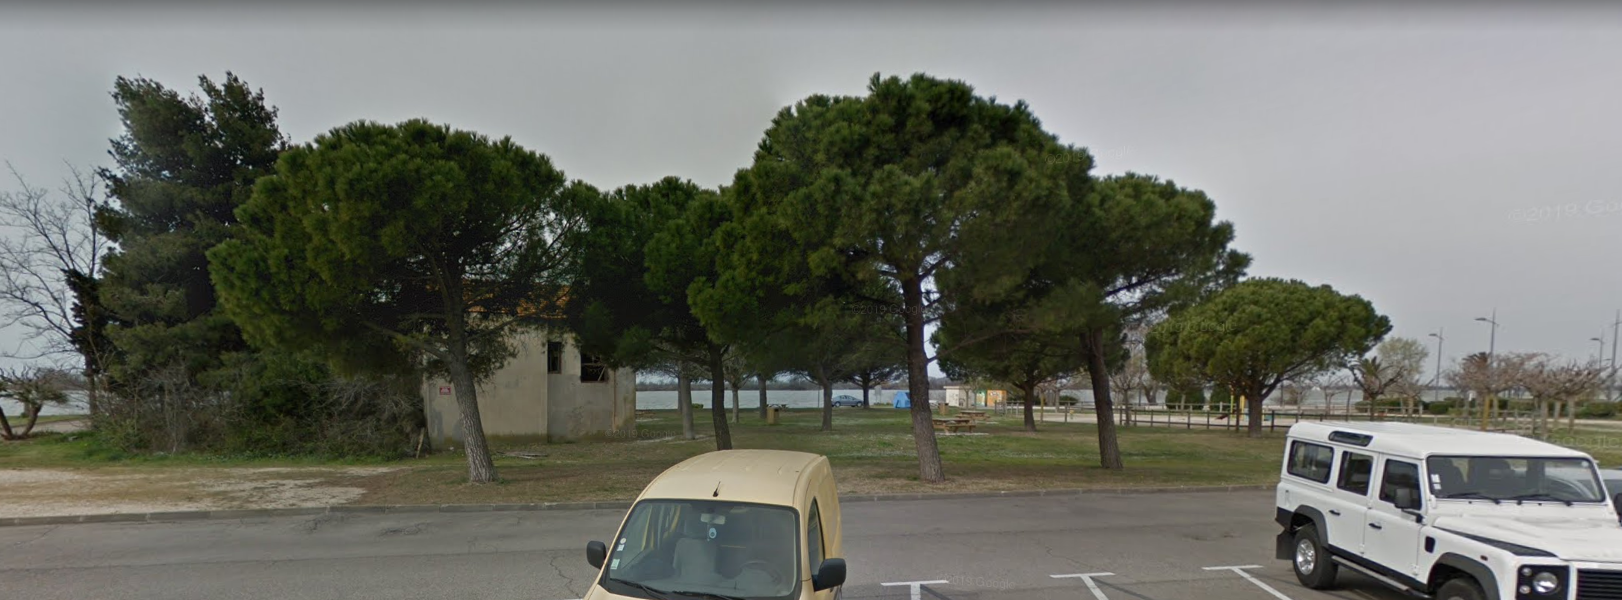Tree: (694, 82, 1092, 468), (218, 115, 554, 486), (552, 164, 906, 470), (962, 178, 1248, 470), (1166, 277, 1396, 431)
